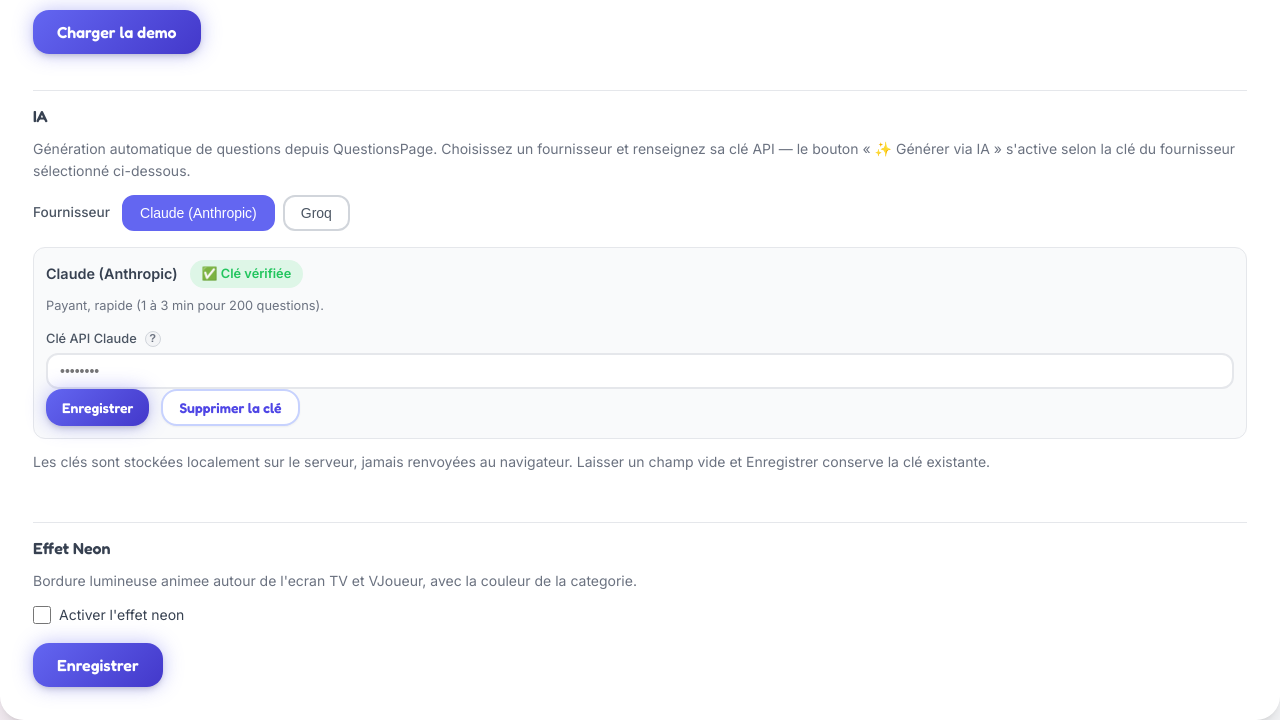
Test: ConfigPage — Section IA (#8) › clicking "Supprimer la clé" asks for confirmation, then POSTs clear_api_key:true
This screenshot has width=1280, height=720.
(page scrolled)
Expected: the text "✅ Clé vérifiée" is shown, [190, 260, 303, 288]
Click the button "Supprimer la clé". click: {"x": 231, "y": 408}
box: [162, 389, 300, 426]
(page scrolled)
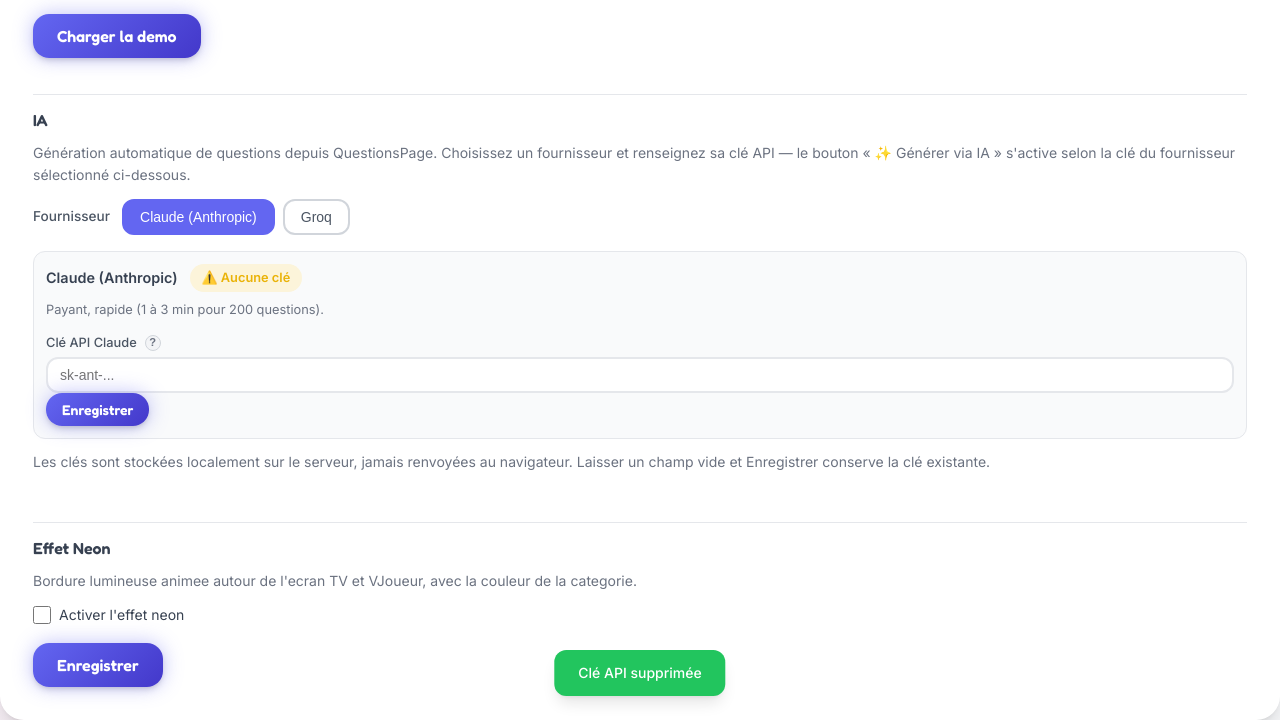
Expected: the text "⚠️ Aucune clé" is shown, [190, 264, 302, 292]
